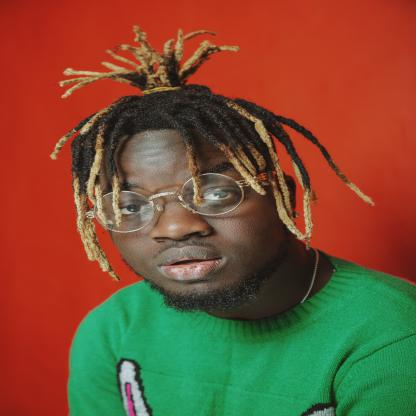Eye: (201, 186, 244, 205), (118, 200, 153, 219)
Mouth: (149, 244, 225, 282)
Nose: (149, 196, 212, 242)
